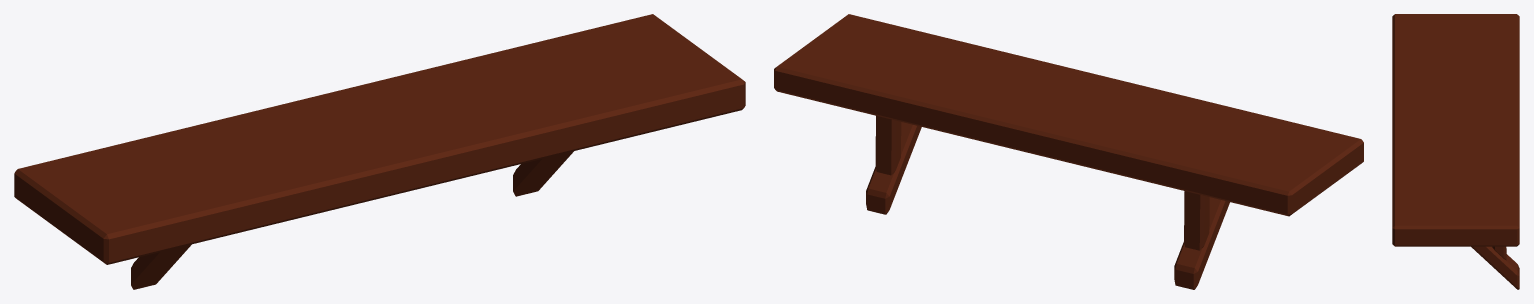
File: hh_wall_shelf.glb
3 renders of one model, left to right at view 1: azimuth 30°, elevation 25°; view 2: azimuth 150°, elevation 25°; view 3: azimuth 270°, elevation 25°, orthographic. The views are drawn at different scales.
Visible parts, largest first — view 1: Wall_shelf_A; view 2: Wall_shelf_A; view 3: Wall_shelf_A.
Part boxes in pixels (bbox=[...]): Wall_shelf_A: bbox=[14, 14, 745, 289]; Wall_shelf_A: bbox=[774, 14, 1363, 289]; Wall_shelf_A: bbox=[1392, 14, 1519, 289].
Bounding box in the file's own units: 1.59 × 0.3547 × 0.4.
